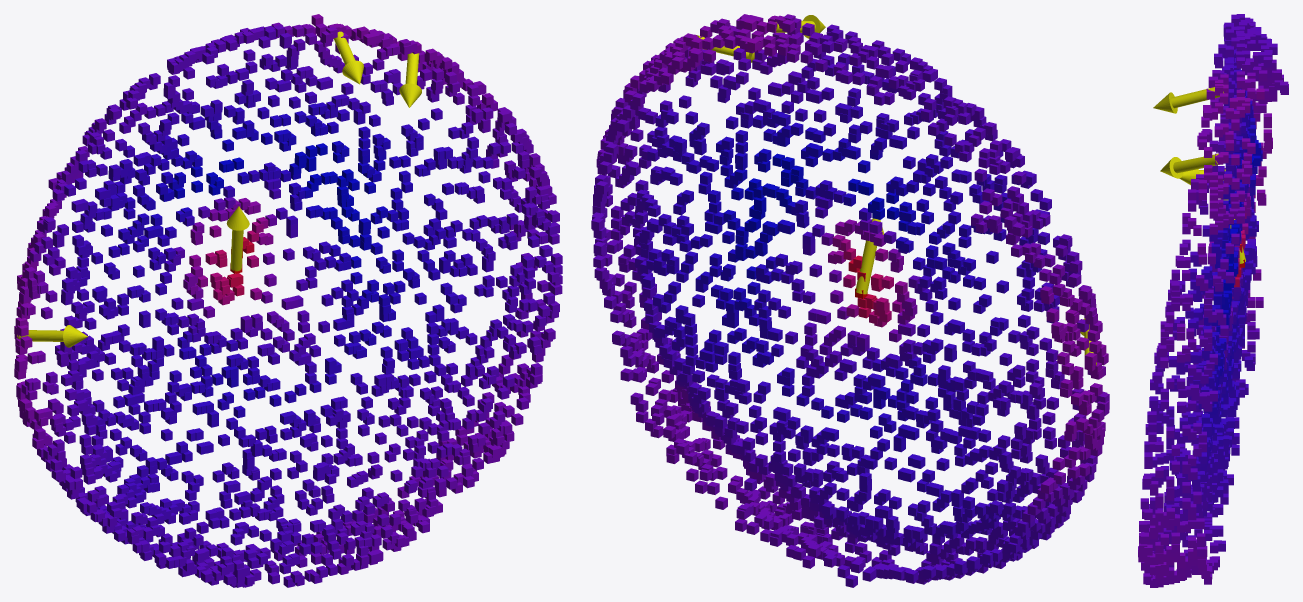
Rendered from heatmap_force.glb.
3 views of the same model, side by side, from view 1: azimuth 30°, elevation 25°; view 2: azimuth 150°, elevation 25°; view 3: azimuth 270°, elevation 25° (orthographic). The views are drawn at different scales.
Visible parts, largest first — view 1: world; view 2: world; view 3: world.
Boxes of the visible parts, <box> form: world: <box>14,14,562,587</box>; world: <box>591,14,1109,587</box>; world: <box>1138,14,1288,587</box>.
Size of the model in its own units: 0.204 by 0.2041 by 0.0544.
